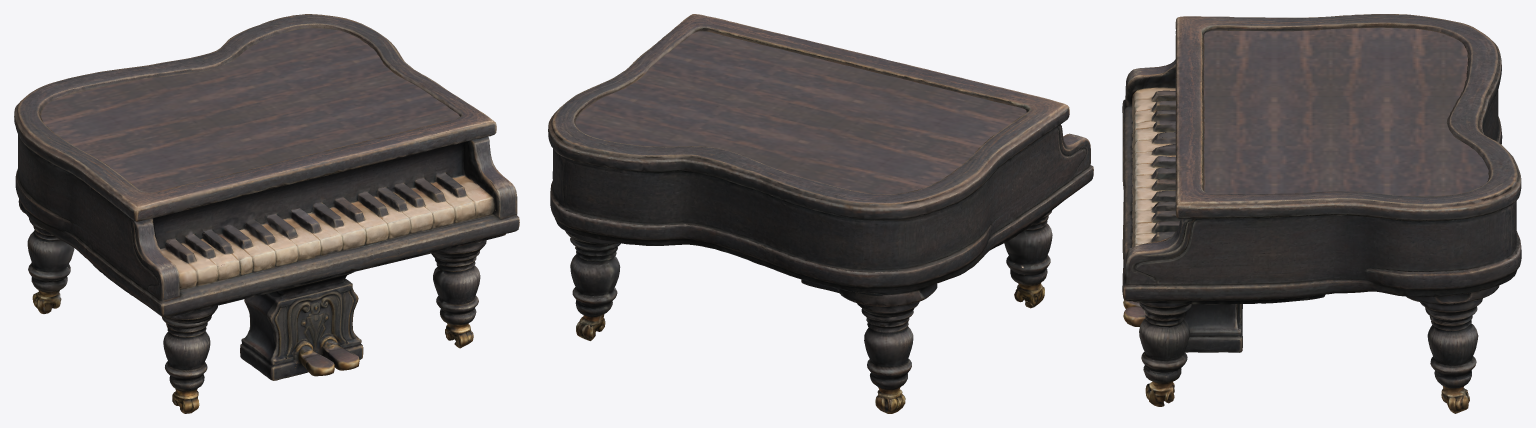
File: Furn_GrandPiano.fbx
3 renders of one model, left to right at view 1: azimuth 30°, elevation 25°; view 2: azimuth 150°, elevation 25°; view 3: azimuth 270°, elevation 25°, orthographic. The views are drawn at different scales.
Visible parts, largest first — view 1: Furn_GrandPiano_Body; view 2: Furn_GrandPiano_Body; view 3: Furn_GrandPiano_Body.
Part boxes in pixels (x1,y1,x2,y2): Furn_GrandPiano_Body: (14,14,519,413); Furn_GrandPiano_Body: (548,14,1093,413); Furn_GrandPiano_Body: (1122,14,1521,413).
Size of the model in its own units: 1 by 0.8699 by 0.5465.
Materials: 1 (1 with a texture image).
